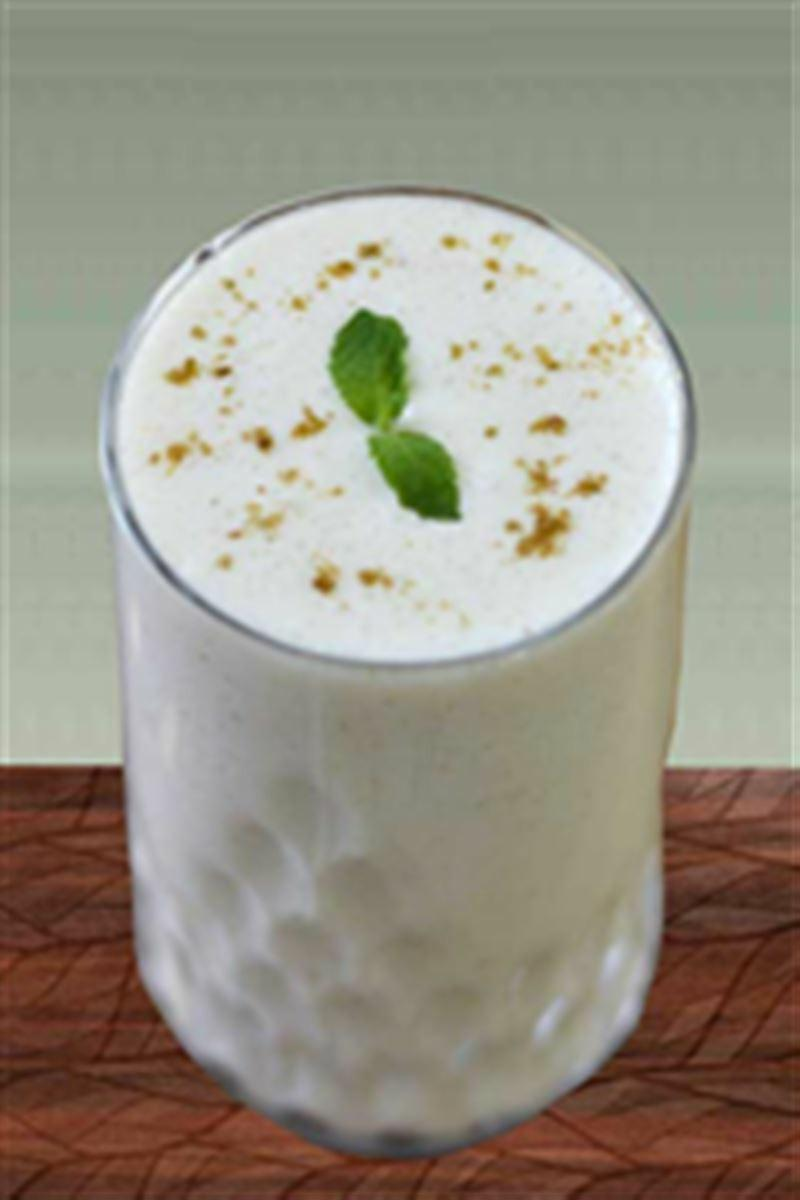Lassi: (101, 185, 680, 1136)
